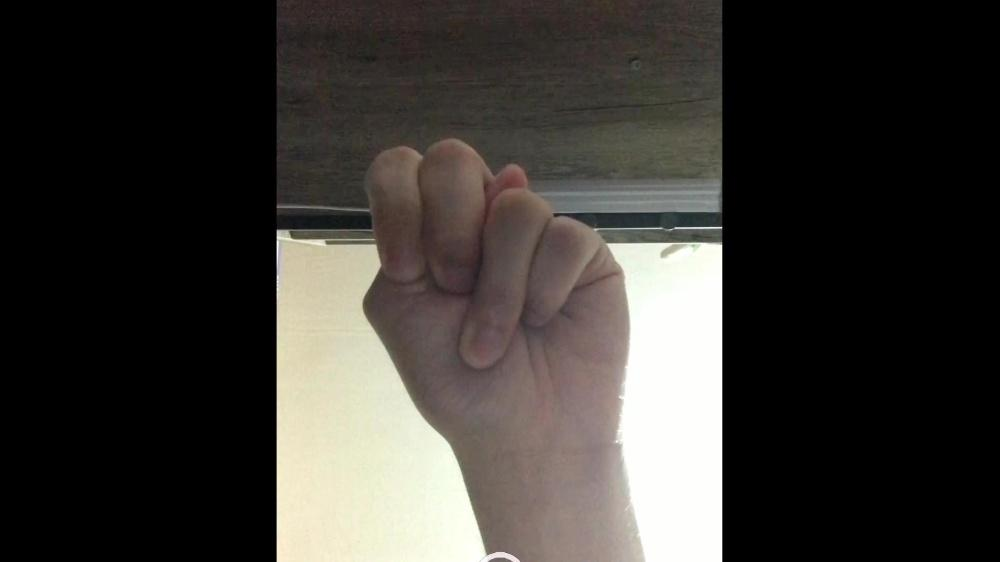n: (364, 131, 632, 435)
